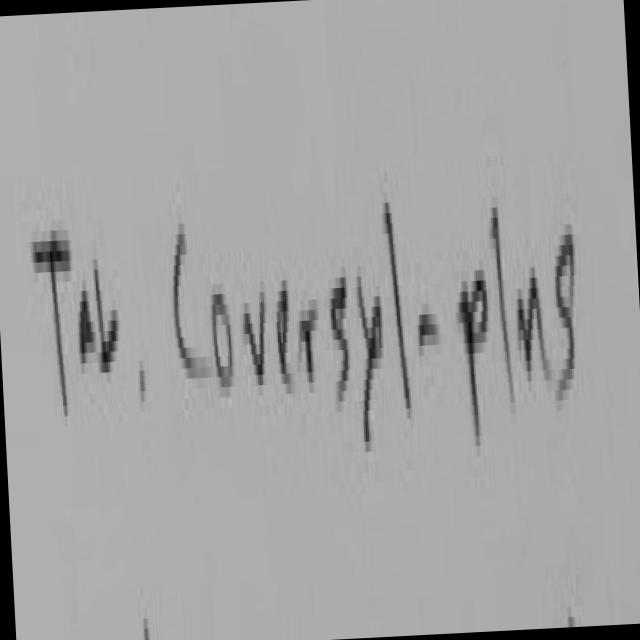C: (173, 219, 207, 395)
T: (34, 242, 68, 411)
a: (78, 259, 102, 383)
b: (95, 259, 119, 386)
e: (275, 281, 298, 407)
l: (387, 203, 411, 403), (493, 208, 516, 398)
o: (212, 294, 232, 382)
p: (459, 265, 489, 461)
r: (297, 275, 324, 396)
s: (554, 234, 579, 395), (332, 277, 350, 397)
u: (516, 267, 552, 381)
v: (245, 292, 263, 380)
y: (358, 292, 383, 436)
